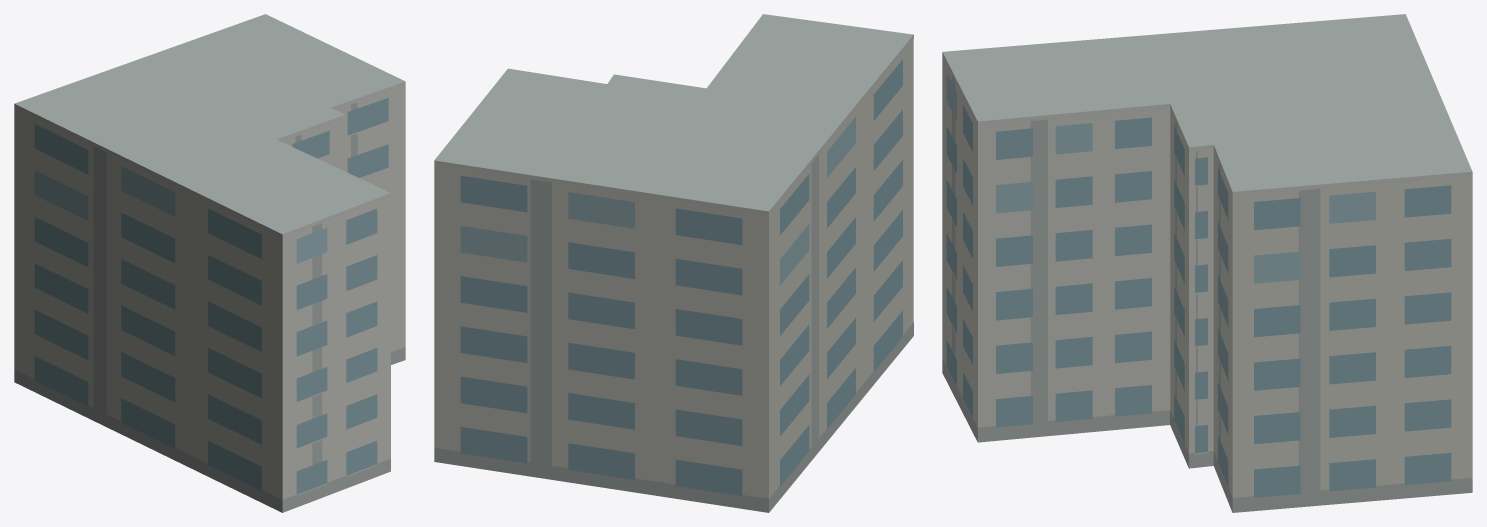
Rendered from survey-upis-32699304.glb.
3 views of the same model, side by side, from view 1: azimuth 30°, elevation 25°; view 2: azimuth 150°, elevation 25°; view 3: azimuth 270°, elevation 25° (orthographic). The views are drawn at different scales.
Parts seen in each view (by area): view 1: survey-upis-32699304.tmp; view 2: survey-upis-32699304.tmp; view 3: survey-upis-32699304.tmp.
Part boxes in pixels (left/top/right/bottom): survey-upis-32699304.tmp: left=14, top=14, right=405, bottom=512; survey-upis-32699304.tmp: left=434, top=14, right=913, bottom=512; survey-upis-32699304.tmp: left=942, top=14, right=1472, bottom=512.
Bounding box in the file's own units: 21.04 × 17.7 × 26.5.
